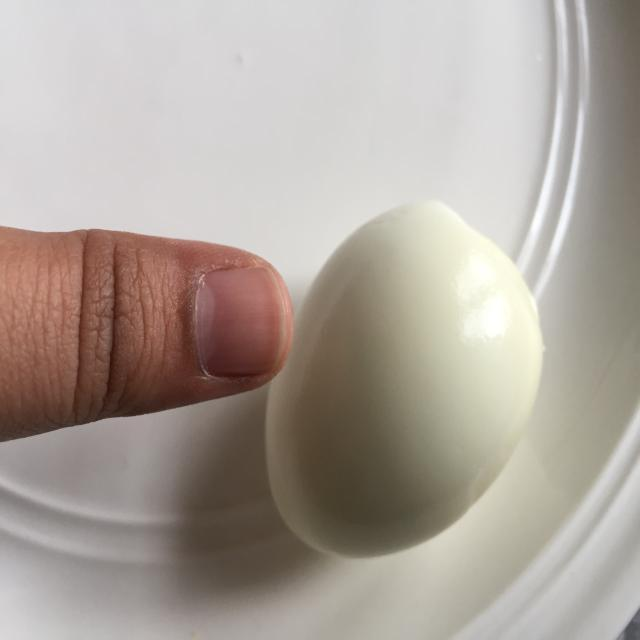Egg: (260, 178, 550, 566)
Finger: (49, 224, 296, 418)
